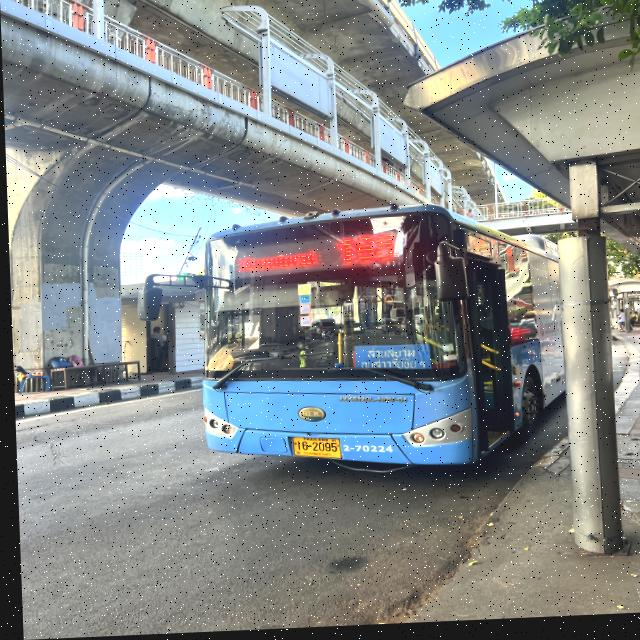BMTA-bus: (197, 210, 561, 474)
Bus Line Number: (328, 232, 398, 272)
Bus Side Number: (337, 443, 398, 460)
Destination Sign: (350, 346, 431, 376)
